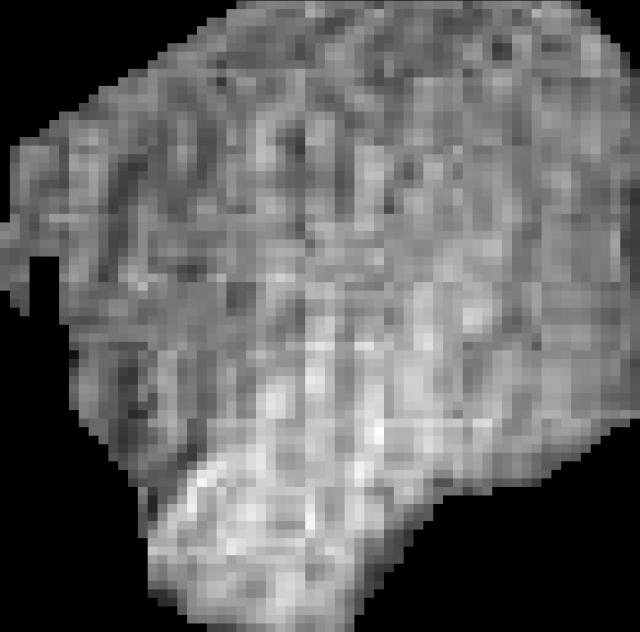tumor_good_chance: (0, 1, 640, 632)
